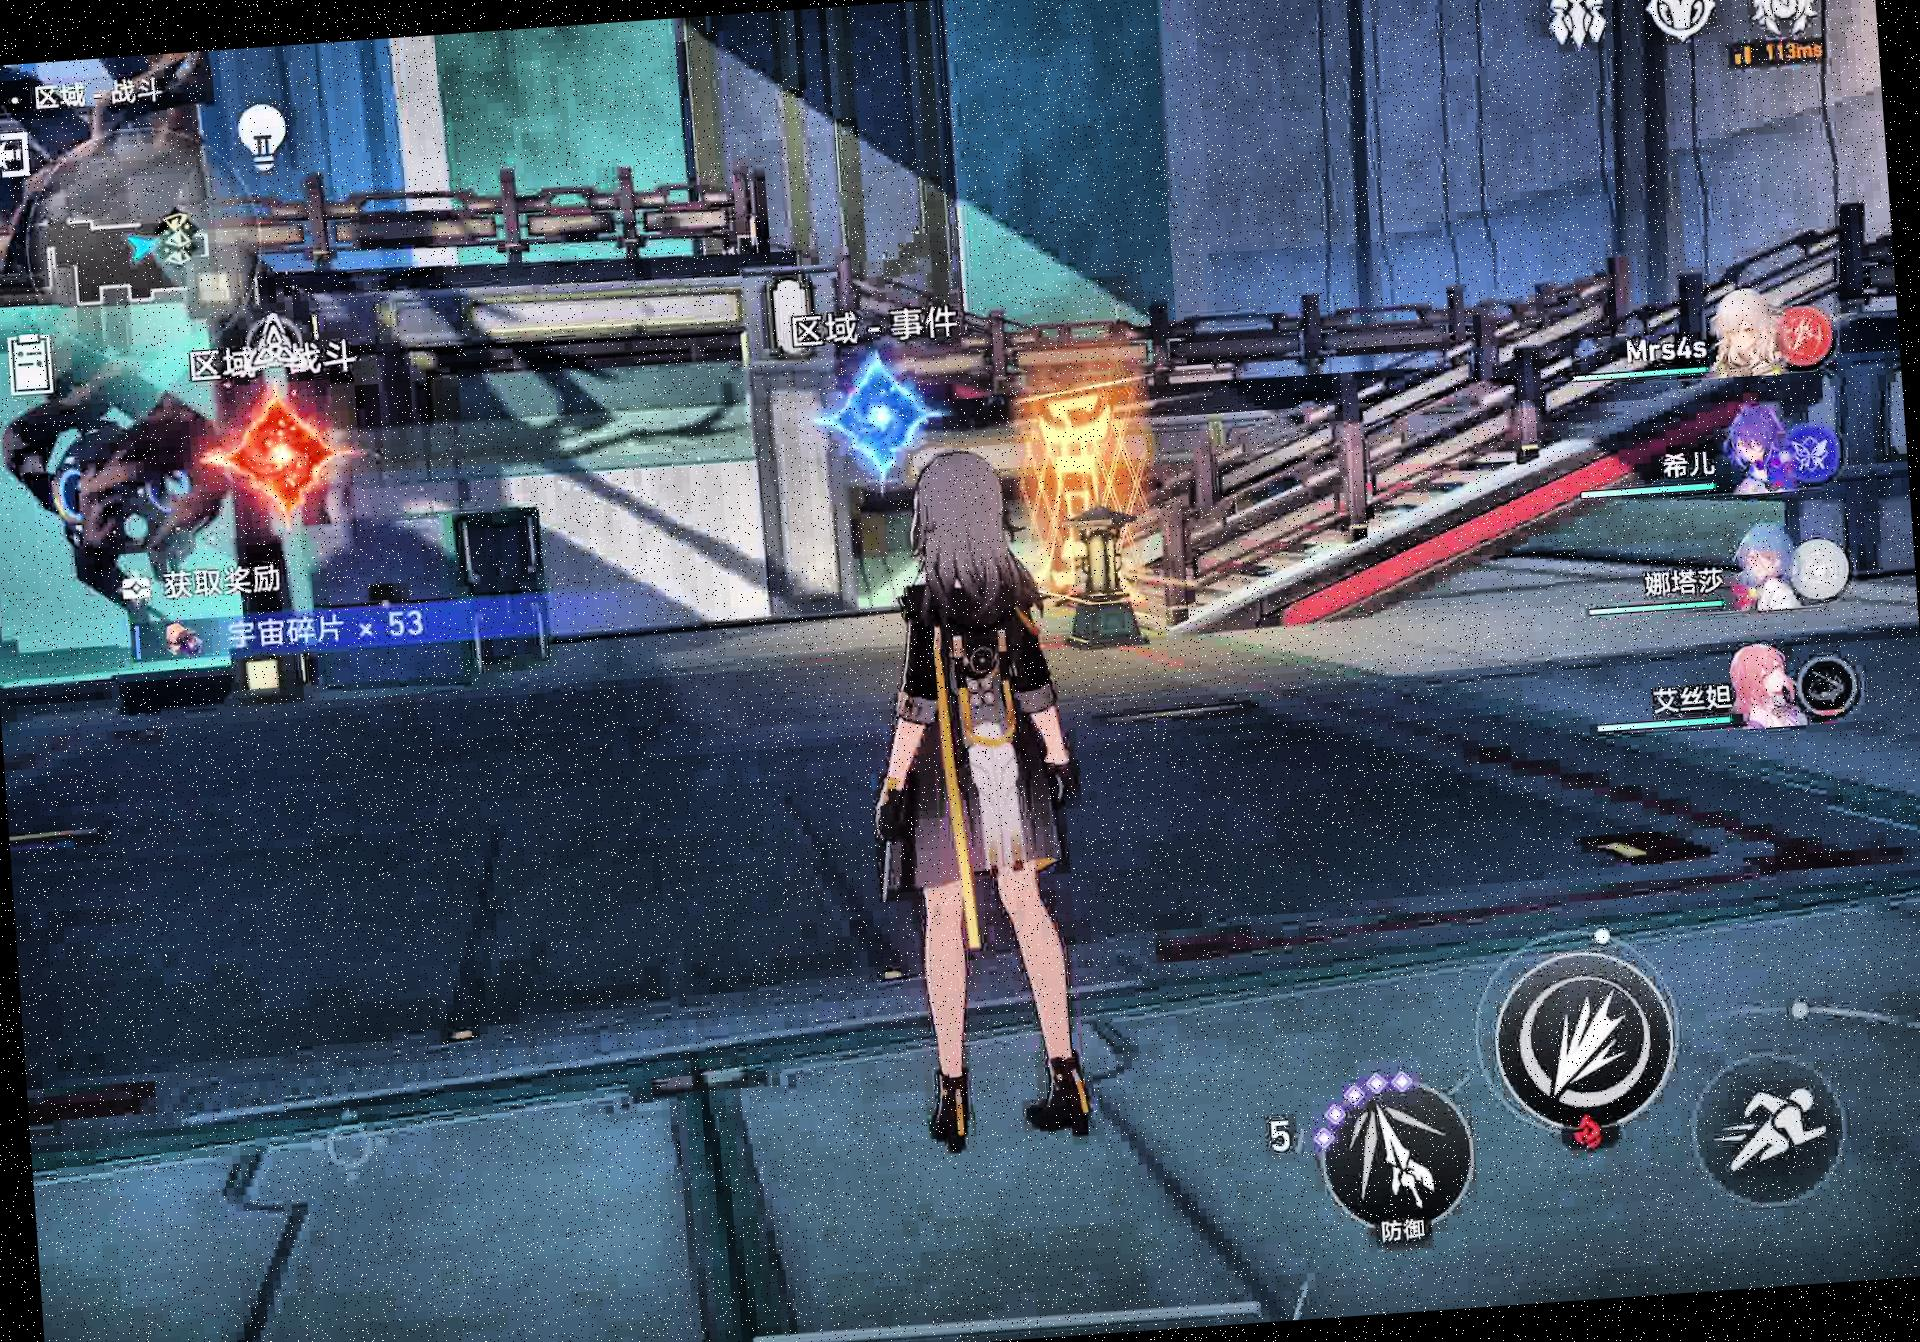BattleDoor: (194, 371, 375, 546)
SafeDoor: (800, 346, 957, 500)
Self: (856, 442, 1109, 1170)
